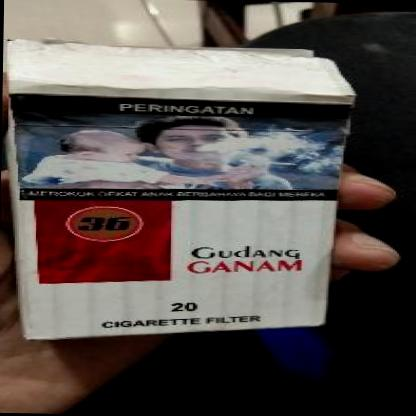objects: (4, 94, 350, 344)
